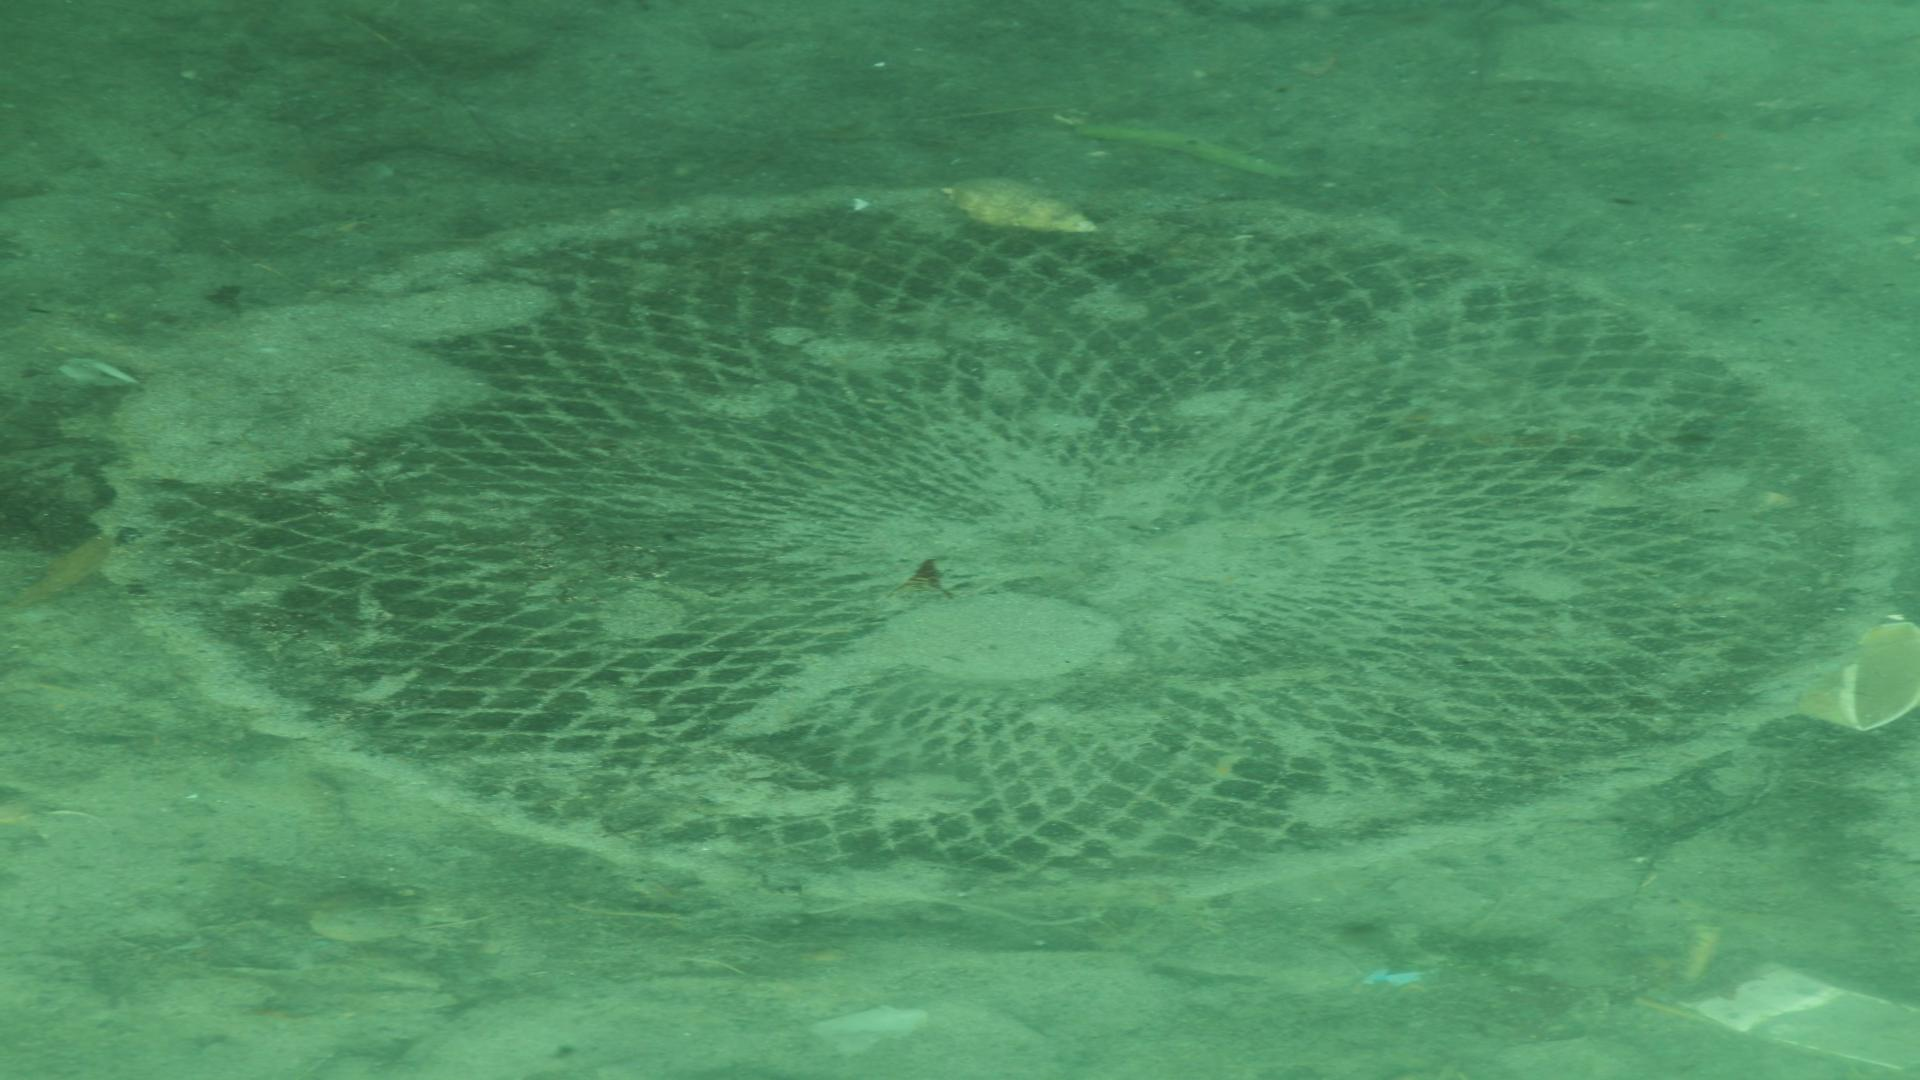circular fish trap: (102, 175, 1904, 913)
